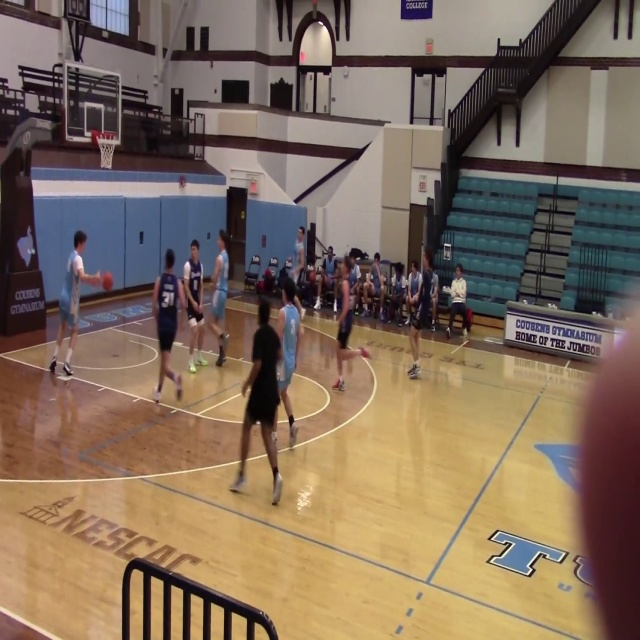Basketball: (101, 272, 113, 290), (360, 347, 370, 358)
